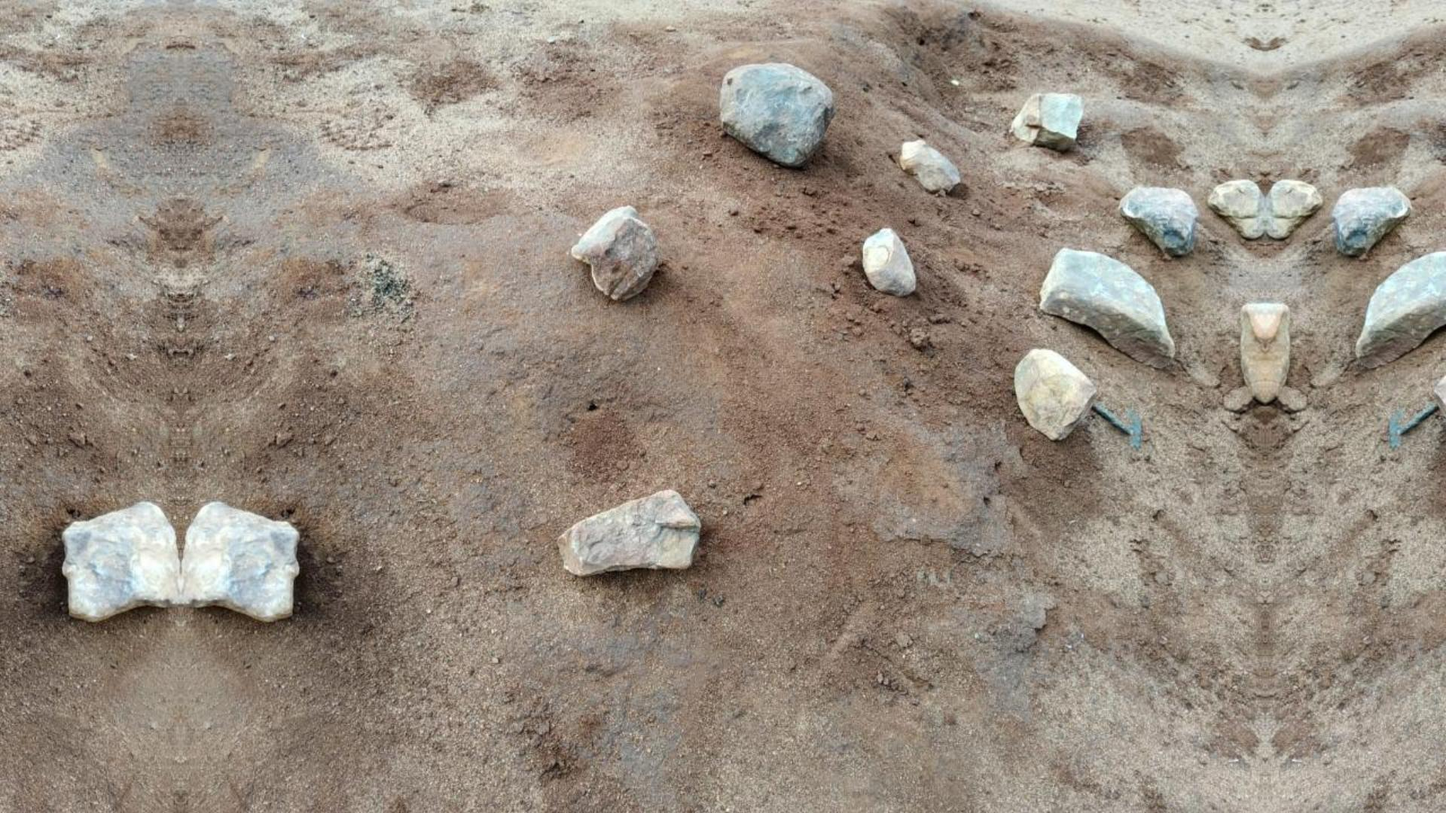rock: (1039, 247, 1175, 368), (181, 501, 298, 620), (62, 501, 178, 621), (557, 489, 699, 575), (720, 63, 834, 166), (1352, 252, 1445, 368), (570, 207, 661, 300), (1013, 349, 1096, 439), (1332, 186, 1410, 256), (1120, 186, 1197, 255), (1011, 93, 1082, 150), (862, 228, 915, 296), (898, 138, 959, 192), (1208, 180, 1264, 238), (1266, 180, 1322, 238), (1239, 307, 1269, 402), (1265, 306, 1290, 400), (1431, 375, 1445, 429)
